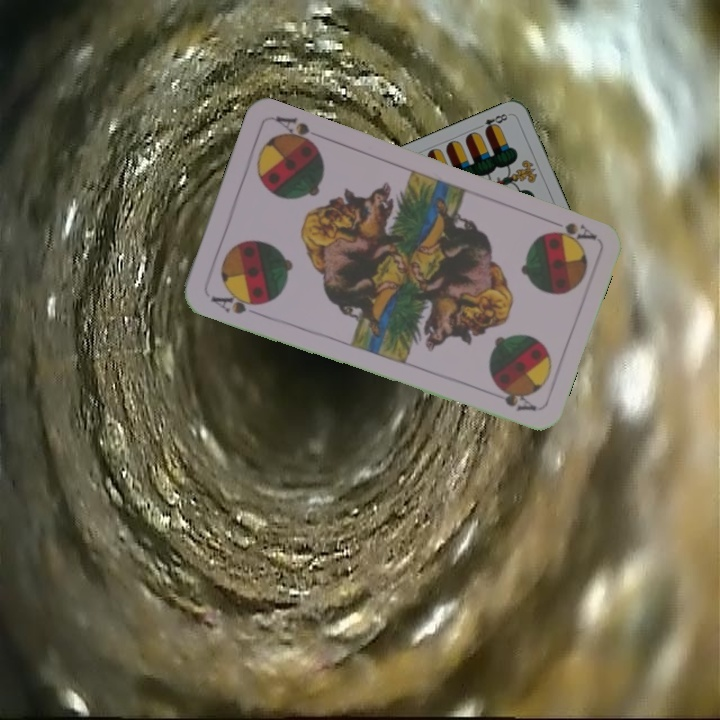E8: (474, 109, 510, 135)
SA: (541, 214, 599, 246), (206, 287, 266, 317)
